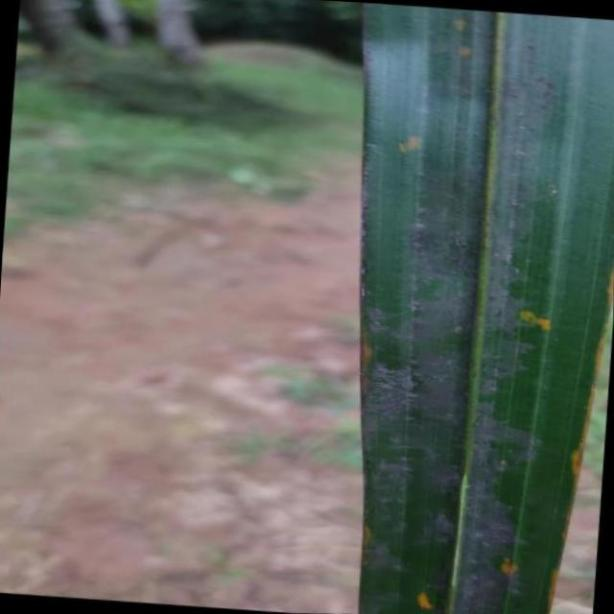Kalium: (360, 0, 614, 614)
